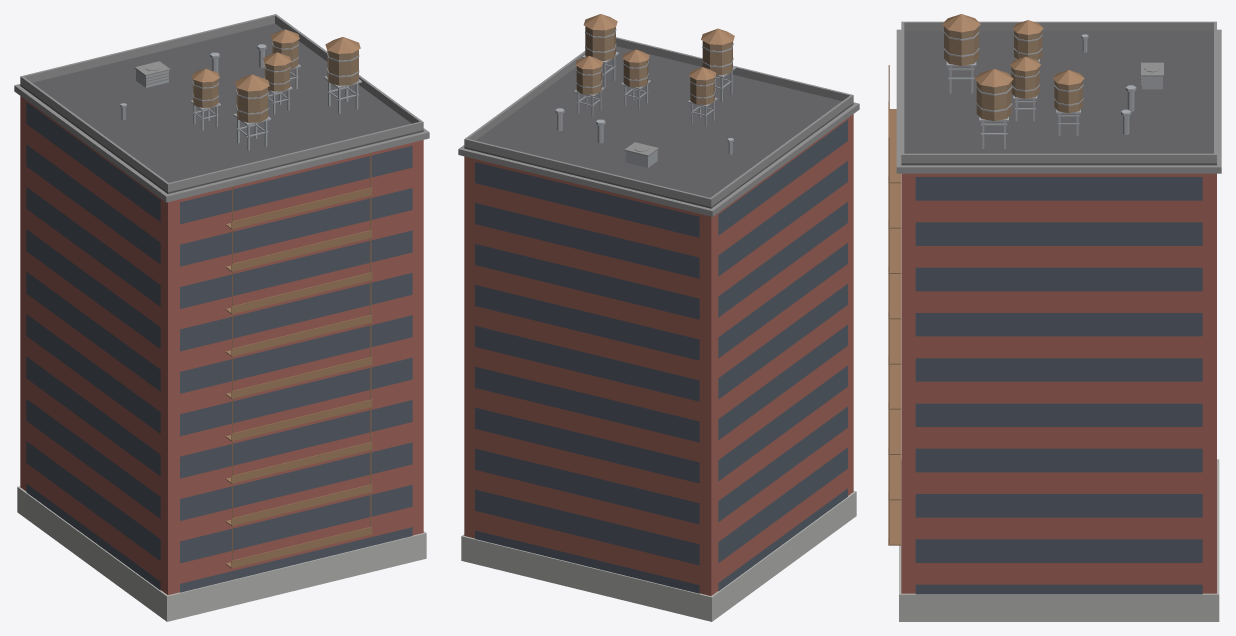
The model's file is bld_tenement_05.glb.
The picture shows the model from 3 angles, left to right: view 1: azimuth 30°, elevation 25°; view 2: azimuth 150°, elevation 25°; view 3: azimuth 270°, elevation 25°; orthographic projection. The views are drawn at different scales.
Parts seen in each view (by area): view 1: bld_tenement_05; view 2: bld_tenement_05; view 3: bld_tenement_05.
Boxes of the visible parts, left/top/right/bottom form: bld_tenement_05: left=14, top=14, right=429, bottom=621; bld_tenement_05: left=458, top=14, right=859, bottom=621; bld_tenement_05: left=888, top=14, right=1221, bottom=621.
Bounding box in the file's own units: 20.6 × 37.23 × 21.12.
